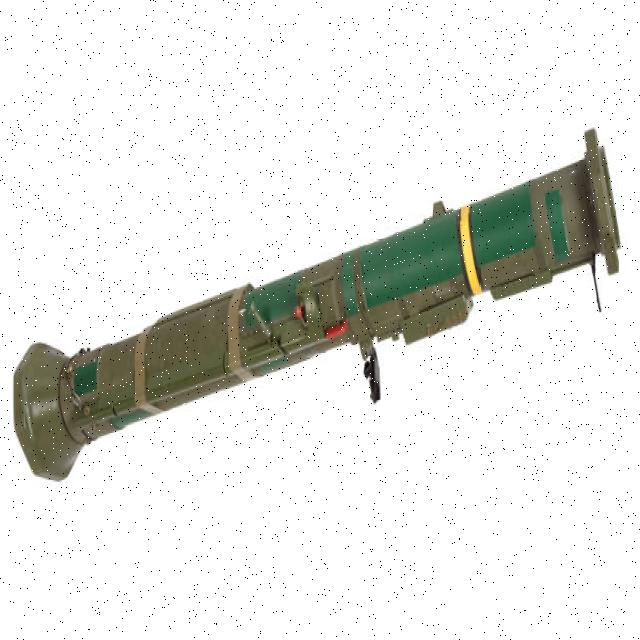bazooka: (10, 120, 626, 496)
